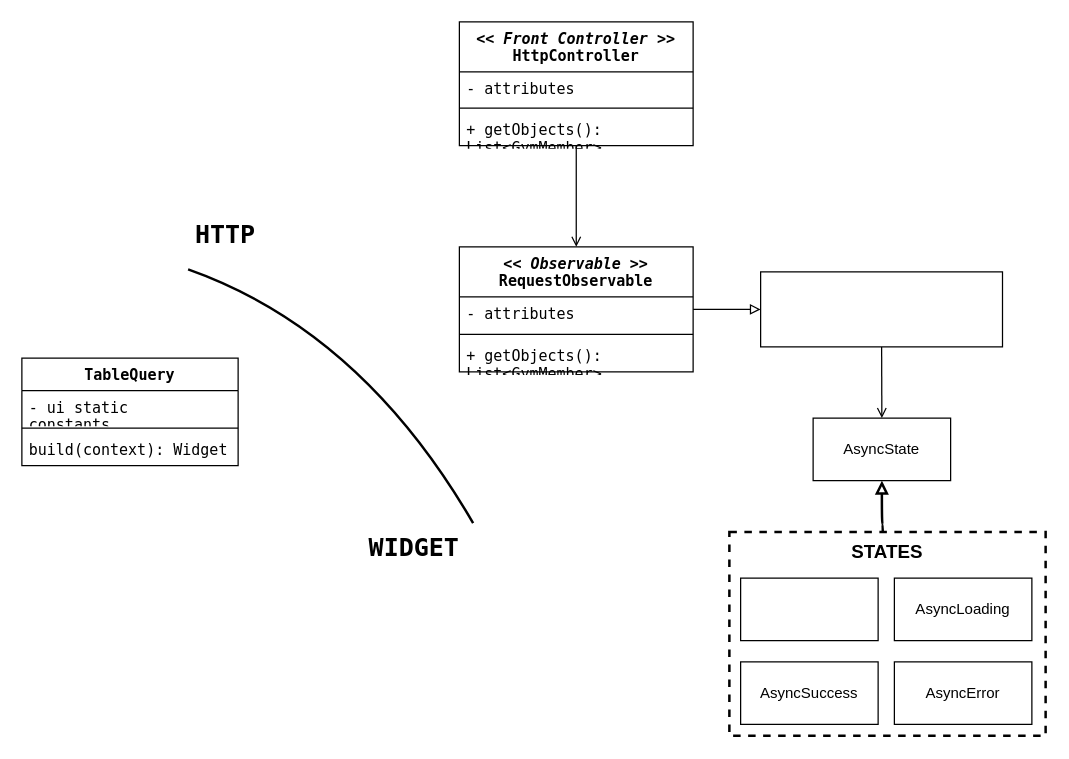
Image size: 1069x759. Some labels were removed from this diagram. The shapes that lost their labels are listed below. From the top down, each one's centre as x and y in pixels, then its label:
the point at 880,309: ValueNotifier<AsyncState<T>>
the point at 808,609: AsyncIdle
